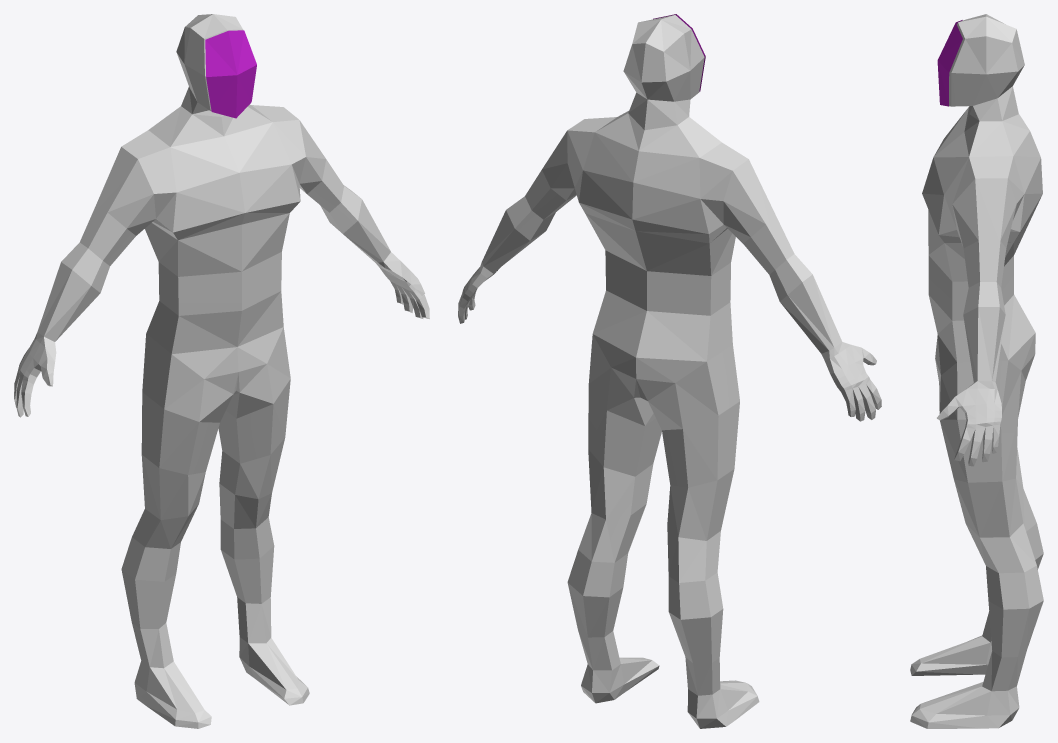
The model's file is sopir3.fbx.
3 views of the same model, side by side, from view 1: azimuth 30°, elevation 25°; view 2: azimuth 150°, elevation 25°; view 3: azimuth 270°, elevation 25° (orthographic).
Parts seen in each view (by area): view 1: Cube.001; view 2: Cube.001; view 3: Cube.001.
Part boxes in pixels (bbox=[...]): Cube.001: bbox=[14, 14, 429, 728]; Cube.001: bbox=[458, 14, 881, 728]; Cube.001: bbox=[910, 14, 1043, 728].
Bounding box in the file's own units: 352 × 557 × 99.44.
